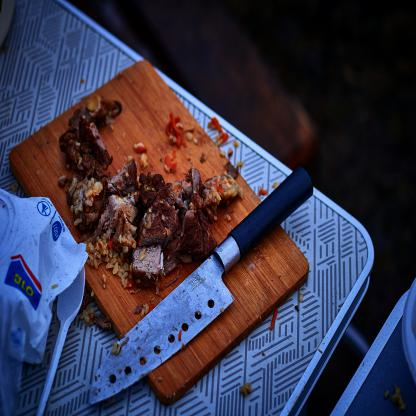Carne: (139, 194, 183, 244), (122, 240, 164, 289), (179, 196, 209, 260), (107, 156, 130, 194)
